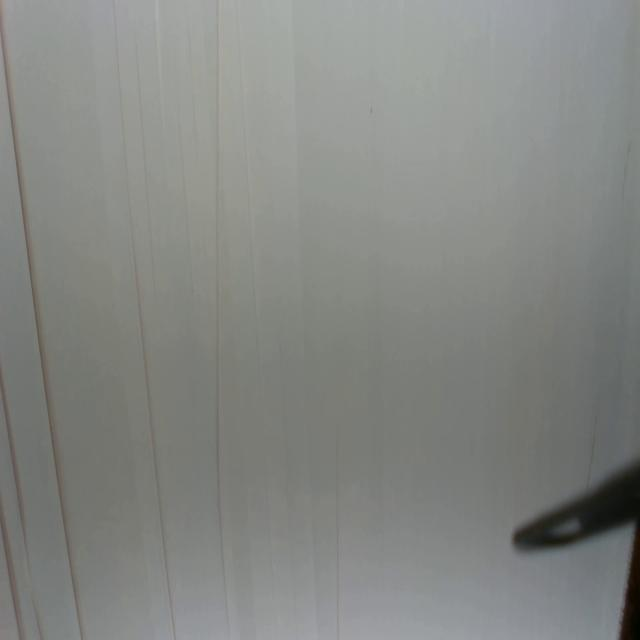crease: (0, 13, 85, 630), (108, 0, 180, 633), (210, 0, 231, 637), (236, 0, 262, 376), (133, 42, 161, 300), (2, 364, 28, 556), (330, 439, 347, 638), (0, 510, 24, 640), (264, 476, 279, 640), (616, 134, 634, 202), (584, 416, 600, 485)
hole: (368, 106, 375, 118)
